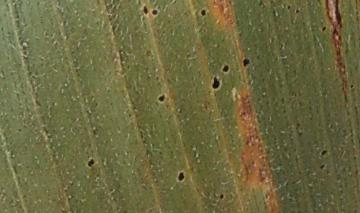tarspot: (333, 1, 343, 28), (211, 74, 221, 90), (86, 157, 96, 169), (241, 57, 251, 68), (176, 170, 185, 182), (150, 8, 159, 18), (221, 64, 229, 74), (157, 93, 165, 103), (142, 4, 149, 15), (199, 8, 207, 17), (271, 7, 277, 17), (320, 149, 328, 156), (320, 24, 327, 32), (294, 8, 301, 16), (318, 163, 325, 170), (218, 193, 225, 199), (348, 83, 355, 89), (257, 1, 264, 7), (286, 4, 292, 10), (268, 1, 274, 6)
